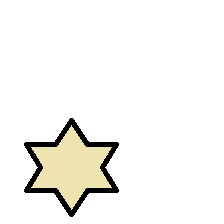star: (24, 118, 119, 217)
